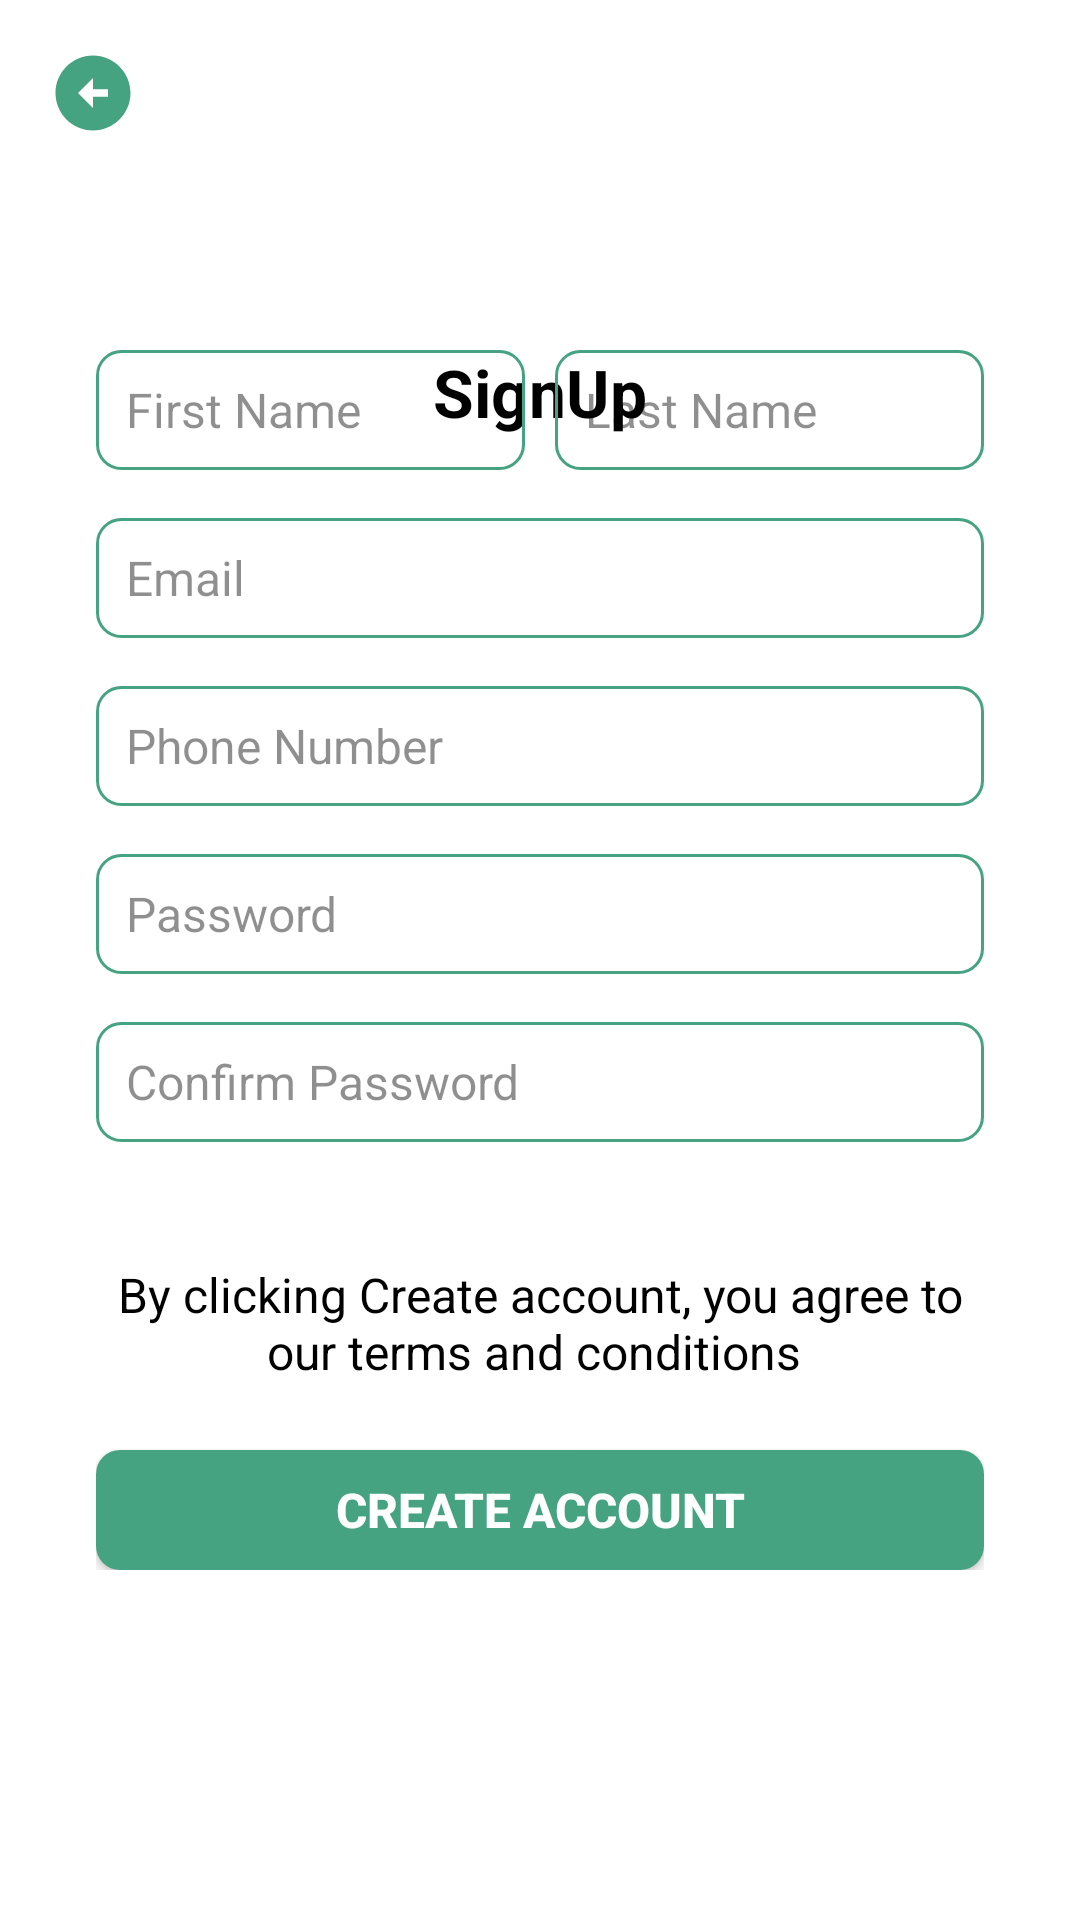

Screen size 1080w x 1920h. Icon name, then its box in pixels as rect(x1, y1, x2, y2):
back: rect(55, 55, 131, 131)
